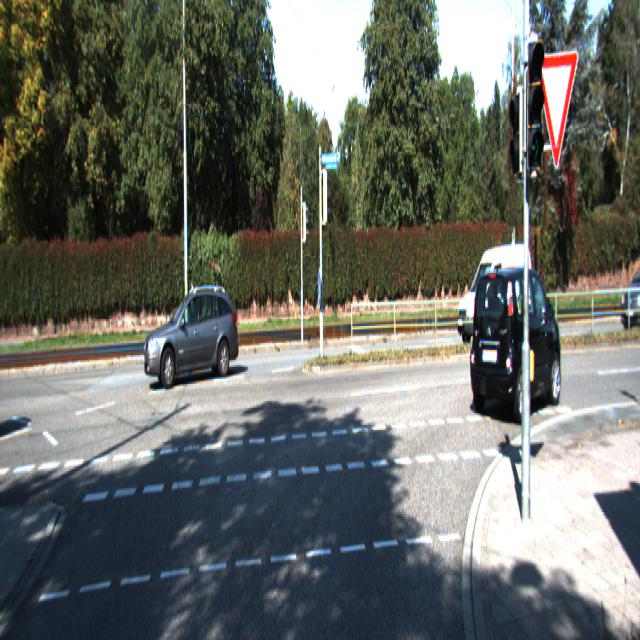Car: (468, 264, 564, 432), (143, 285, 240, 391), (456, 238, 535, 349), (620, 256, 640, 336)
